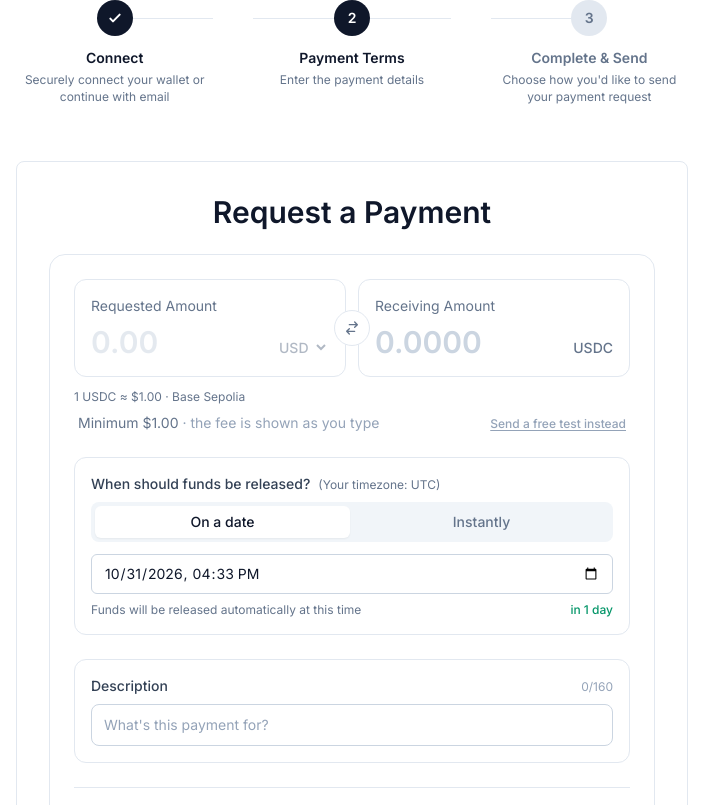
Test: CreateContractWizard - instant release › the control itself › replaces the picker with the no-dispute warning when Instantly is chosen
Click the radio button labelled "Instantly" at (482, 522), box [354,506,609,538]
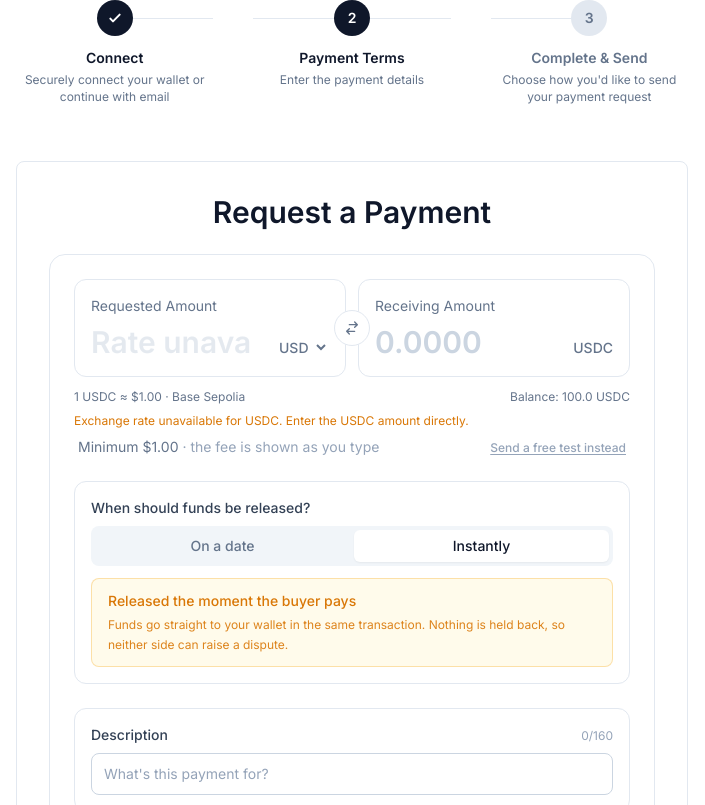
Expected: the field is gone
Expected: the text "neither side can raise a dispute" is shown, [108,617,565,652]
